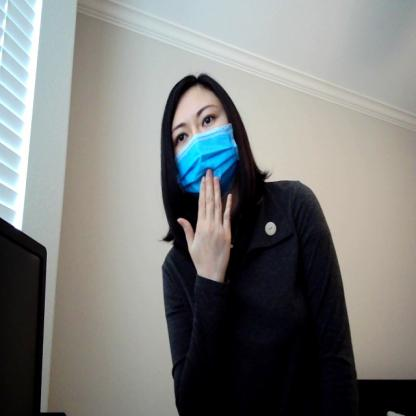thanks: (173, 166, 237, 284)
